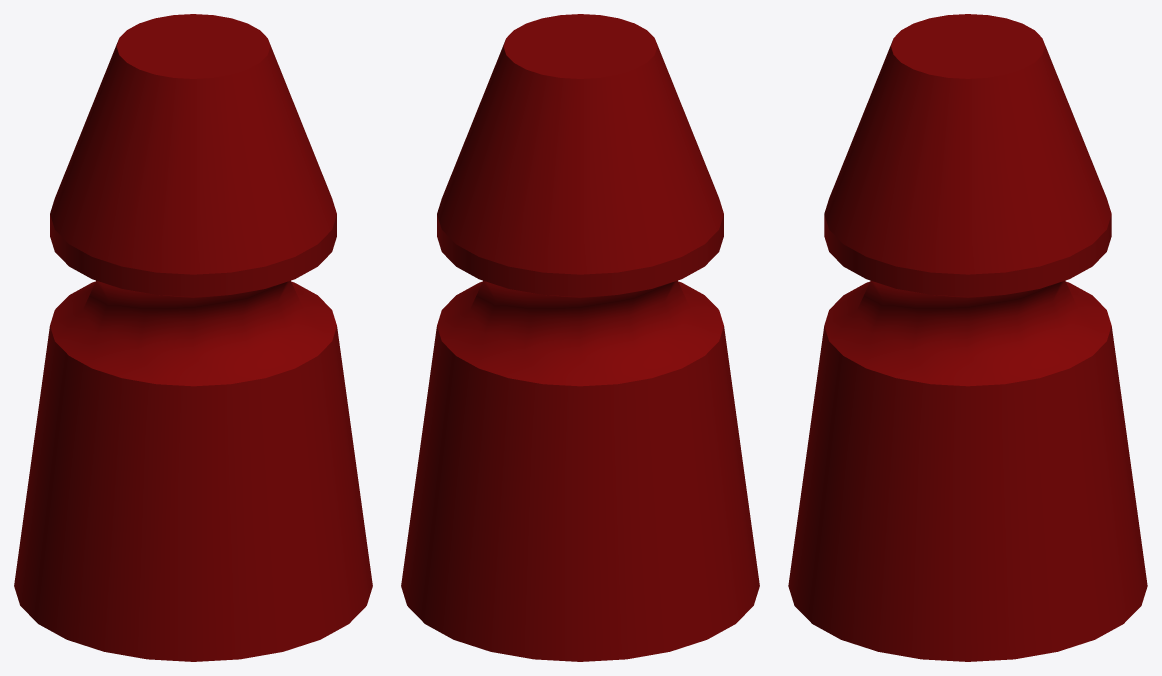
File: PegPlasticT17.fbx
3 views of the same model, side by side, from view 1: azimuth 30°, elevation 25°; view 2: azimuth 150°, elevation 25°; view 3: azimuth 270°, elevation 25° (orthographic).
Parts seen in each view (by area): view 1: PegPlasticT17; view 2: PegPlasticT17; view 3: PegPlasticT17.
Boxes of the visible parts, x1=… form: PegPlasticT17: x1=14, y1=14, x2=372, y2=661; PegPlasticT17: x1=401, y1=14, x2=759, y2=661; PegPlasticT17: x1=788, y1=14, x2=1147, y2=661.
Bounding box in the file's own units: 1.79 × 2.97 × 1.79.
